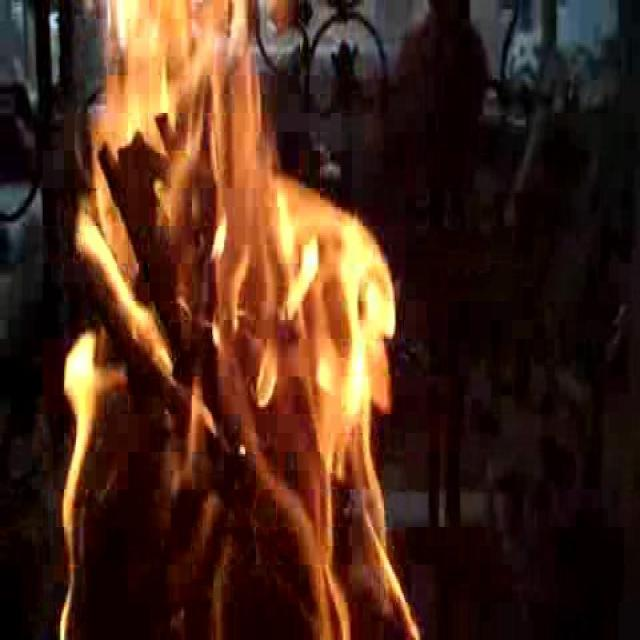Fire: (59, 14, 393, 636)
